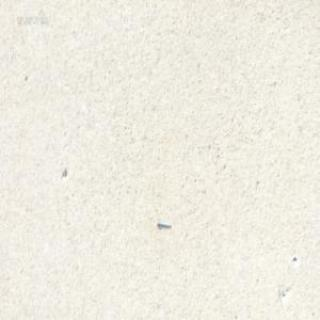Nailtrack_idkeyframe: (155, 217, 170, 227)
